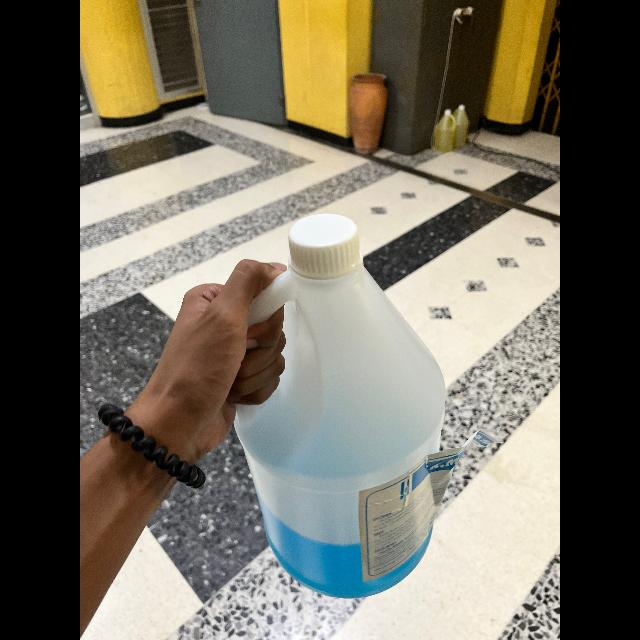chemical_plastic_gallon: (198, 172, 478, 604)
